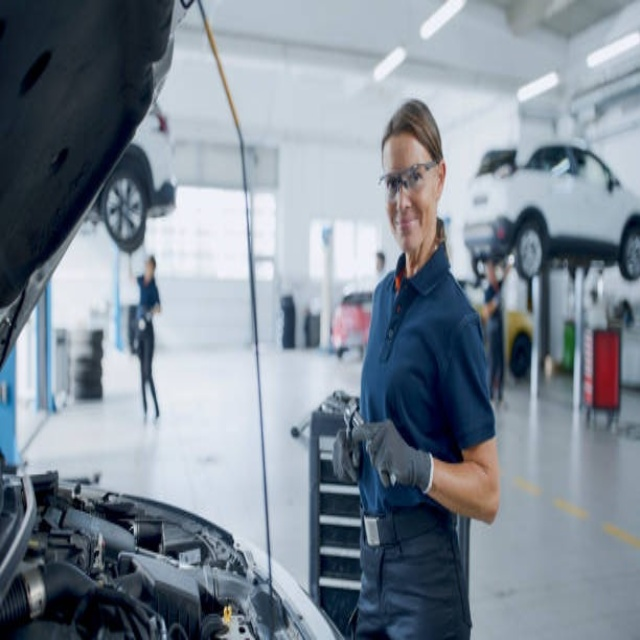Gafas: (379, 160, 439, 201)
Guantes: (352, 411, 433, 497), (328, 422, 360, 480)
Sin_mascara: (391, 210, 420, 246)
